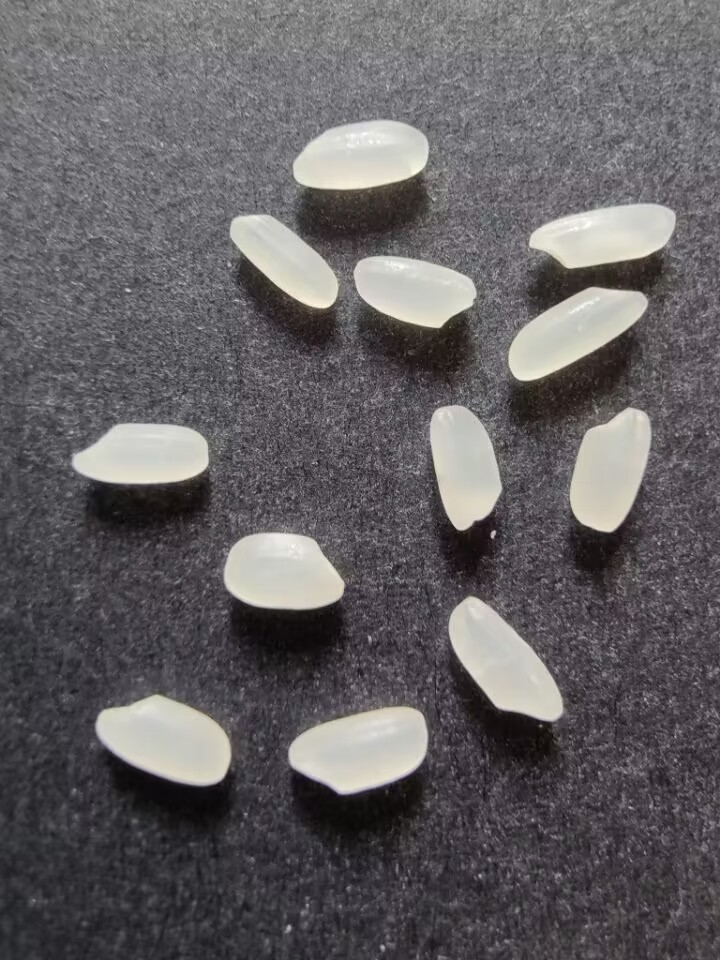rice: (443, 593, 570, 727), (502, 283, 653, 384), (92, 692, 234, 792), (282, 704, 433, 798), (223, 209, 345, 315), (216, 529, 348, 619), (568, 401, 653, 537), (525, 201, 678, 273), (289, 116, 432, 193), (65, 419, 210, 493), (349, 252, 480, 331), (427, 401, 503, 536)
